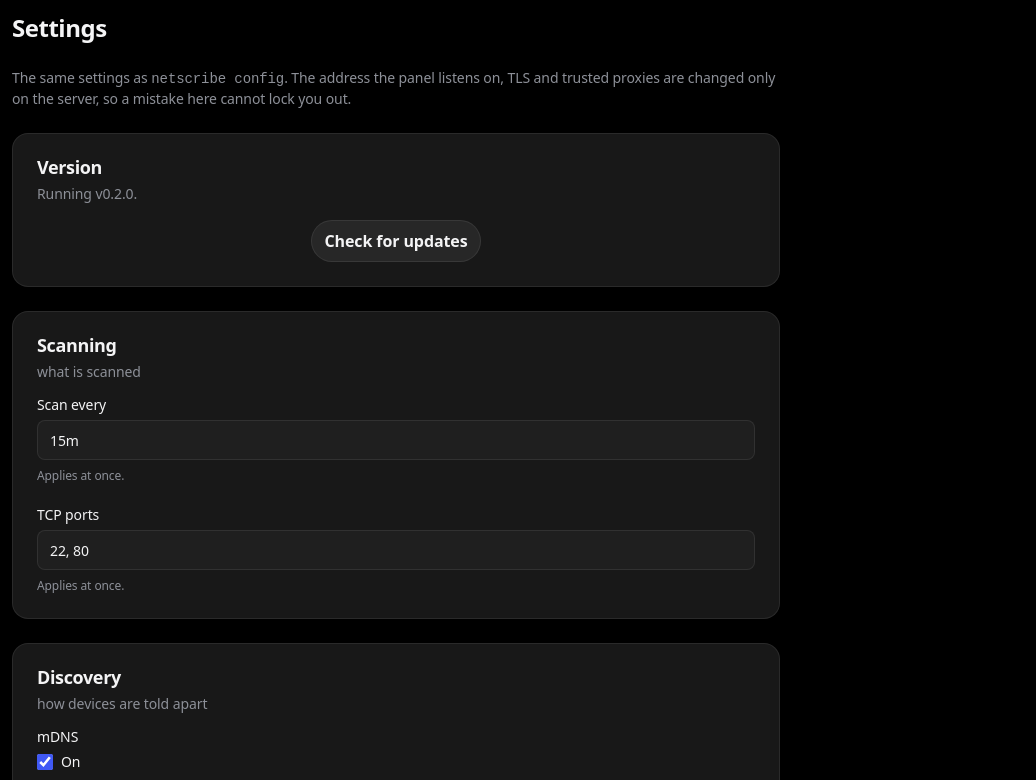
Scenario: Settings › checks for updates on request
Click the button "Check for updates": x=396, y=241 x1=311 y1=220 x2=480 y2=262
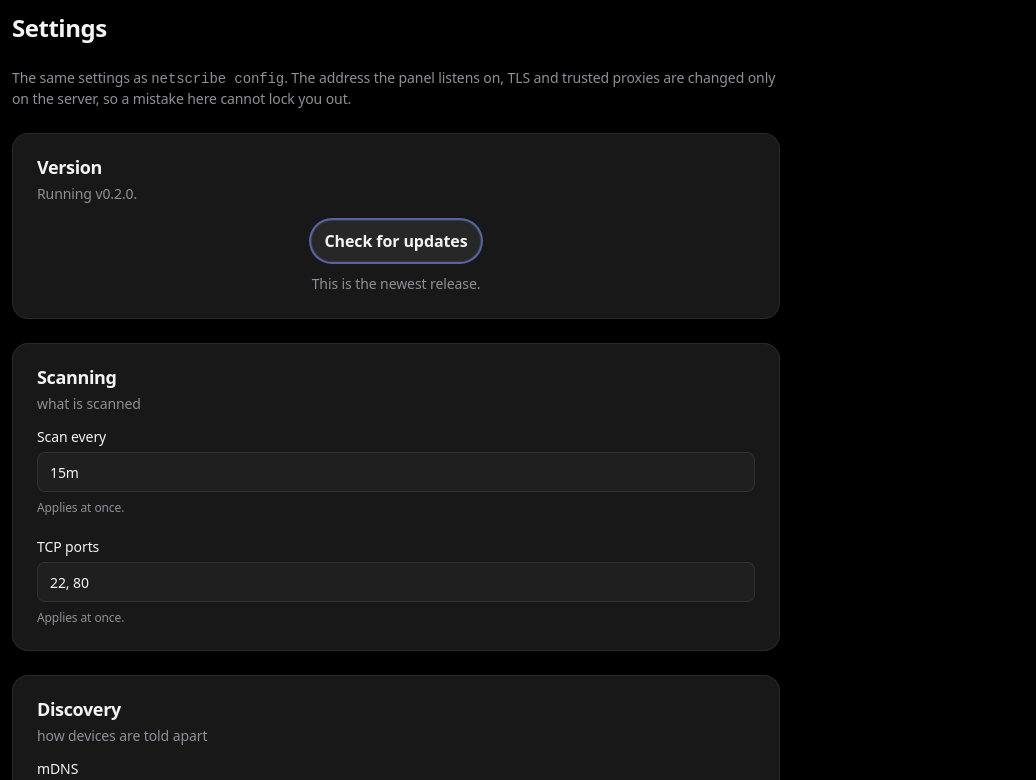
Expected: the text "This is the newest release." is shown, x1=312 y1=274 x2=480 y2=294
